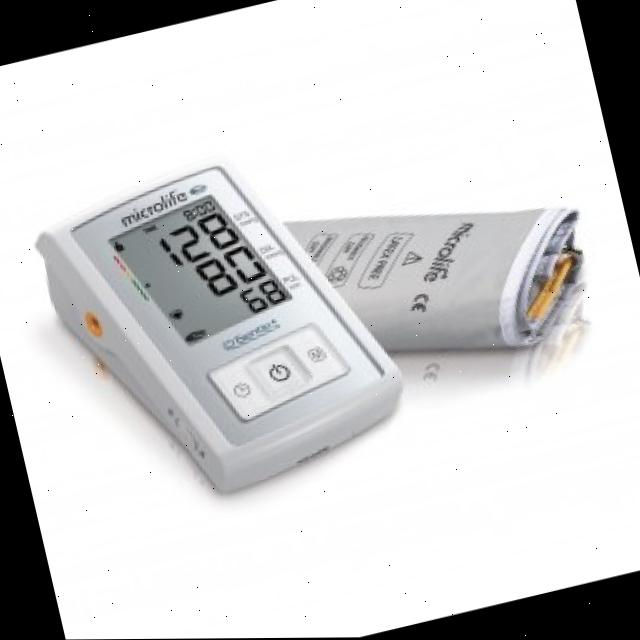dia: (187, 237, 274, 305)
pul: (233, 273, 290, 319)
ssd: (108, 171, 297, 369)
sys: (150, 203, 241, 276)
